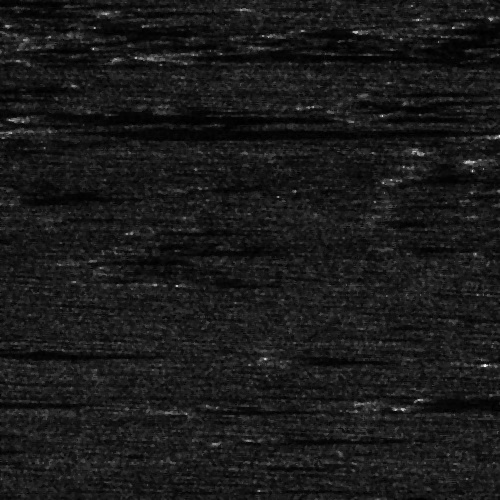object: (0, 124, 118, 141), (30, 111, 93, 120), (139, 49, 212, 56), (73, 255, 126, 260), (377, 25, 418, 30), (160, 227, 191, 230), (0, 353, 6, 356)
shadow: (30, 124, 336, 141), (61, 111, 297, 120), (176, 49, 470, 56), (0, 341, 135, 356), (0, 353, 171, 356), (398, 25, 500, 30), (99, 255, 178, 260), (0, 0, 123, 3), (176, 227, 216, 230)
